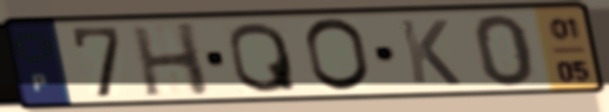0: (471, 11, 538, 89)
7: (68, 25, 123, 100)
H: (127, 20, 215, 99)
K: (395, 17, 465, 88)
O: (301, 16, 374, 95)
Q: (226, 19, 301, 95)
